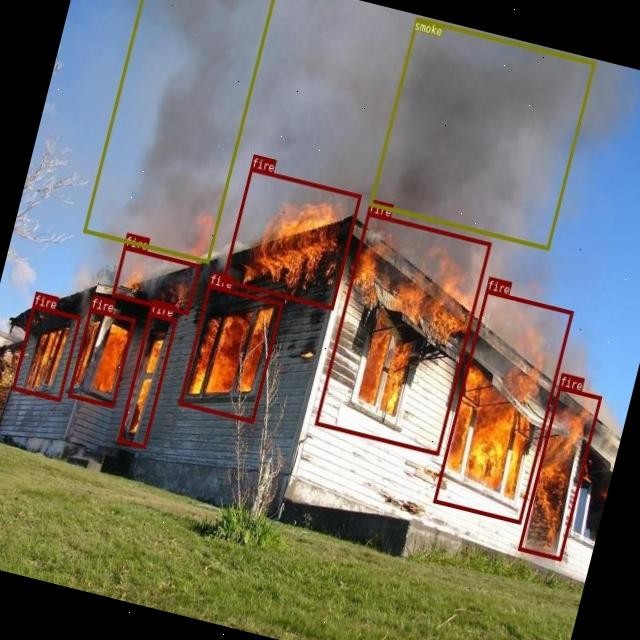fire: (314, 211, 490, 454), (432, 288, 573, 523), (222, 166, 361, 308), (517, 384, 601, 560), (178, 282, 282, 422), (116, 312, 178, 448), (67, 306, 135, 406), (11, 304, 81, 401), (111, 245, 200, 314)
smoke: (370, 17, 596, 250), (82, 0, 279, 263)
